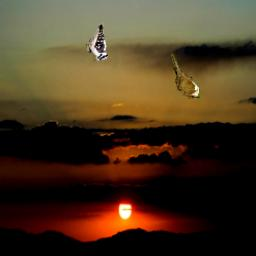Cuckoo: (171, 53, 201, 99)
Woodpecker: (87, 23, 109, 62)
